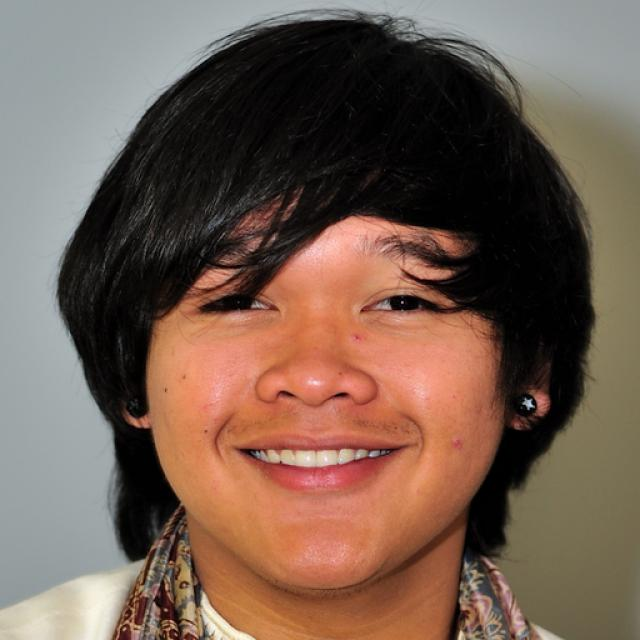Acne: (445, 428, 476, 456), (343, 327, 370, 351)
